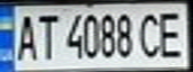0: (81, 10, 100, 60)
4: (60, 9, 84, 60)
8: (115, 9, 139, 58), (100, 10, 118, 60)
A: (12, 10, 39, 62)
C: (136, 8, 166, 60)
E: (154, 7, 190, 60)
T: (33, 10, 60, 61)
